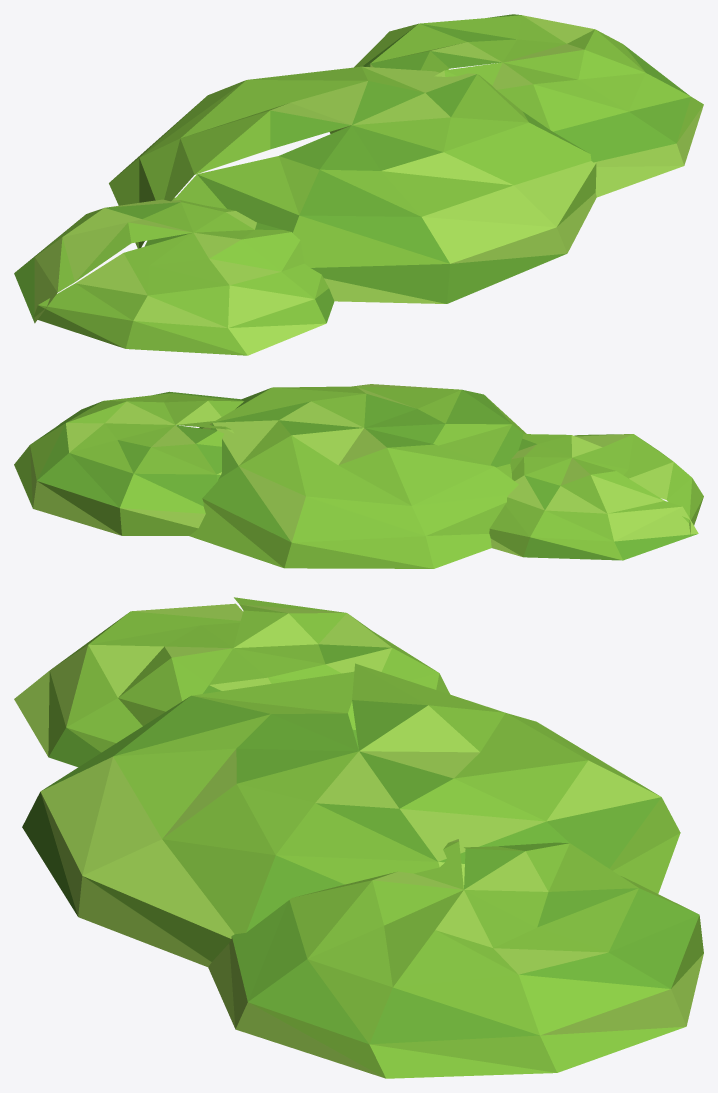
Rendered from colinas.glb.
3 renders of one model, top to bottom at view 1: azimuth 30°, elevation 25°; view 2: azimuth 150°, elevation 25°; view 3: azimuth 270°, elevation 25°, orthographic. The views are drawn at different scales.
Parts seen in each view (by area): view 1: colina_1_pasto, colina_2_pasto, colina_1_pasto_oscuro, colina_1_pasto_claro, colina_3_pasto, colina_2_pasto_claro, colina_3_pasto_oscuro, colina_3_pasto_claro, colina_2_pasto_oscuro; view 2: colina_1_pasto, colina_3_pasto, colina_2_pasto, colina_1_pasto_oscuro, colina_2_pasto_claro, colina_1_pasto_claro, colina_3_pasto_oscuro, colina_3_pasto_claro, colina_2_pasto_oscuro; view 3: colina_1_pasto, colina_3_pasto, colina_1_pasto_claro, colina_1_pasto_oscuro, colina_3_pasto_oscuro, colina_2_pasto, colina_3_pasto_claro, colina_2_pasto_claro, colina_2_pasto_oscuro.
Boxes of the visible parts, bbox=[...] form: colina_1_pasto: bbox=[109, 66, 596, 267]; colina_2_pasto: bbox=[17, 200, 328, 355]; colina_1_pasto_oscuro: bbox=[144, 74, 587, 303]; colina_1_pasto_claro: bbox=[270, 66, 596, 303]; colina_3_pasto: bbox=[329, 15, 703, 142]; colina_2_pasto_claro: bbox=[34, 197, 325, 355]; colina_3_pasto_oscuro: bbox=[362, 14, 690, 162]; colina_3_pasto_claro: bbox=[340, 15, 703, 197]; colina_2_pasto_oscuro: bbox=[14, 202, 334, 322]; colina_1_pasto: bbox=[189, 386, 526, 568]; colina_3_pasto: bbox=[14, 393, 243, 535]; colina_2_pasto: bbox=[489, 434, 703, 560]; colina_1_pasto_oscuro: bbox=[198, 388, 523, 542]; colina_2_pasto_claro: bbox=[490, 434, 698, 556]; colina_1_pasto_claro: bbox=[203, 384, 458, 542]; colina_3_pasto_oscuro: bbox=[33, 391, 243, 507]; colina_3_pasto_claro: bbox=[30, 401, 234, 535]; colina_2_pasto_oscuro: bbox=[518, 438, 697, 560]; colina_1_pasto: bbox=[83, 663, 680, 961]; colina_3_pasto: bbox=[249, 841, 703, 1078]; colina_1_pasto_claro: bbox=[40, 705, 660, 966]; colina_1_pasto_oscuro: bbox=[22, 695, 661, 932]; colina_3_pasto_oscuro: bbox=[232, 842, 699, 1044]; colina_2_pasto: bbox=[48, 597, 450, 756]; colina_3_pasto_claro: bbox=[208, 839, 703, 1078]; colina_2_pasto_claro: bbox=[14, 603, 391, 756]; colina_2_pasto_oscuro: bbox=[48, 644, 391, 767].
Size of the model in its own units: 29.79 by 3.29 by 18.88.
